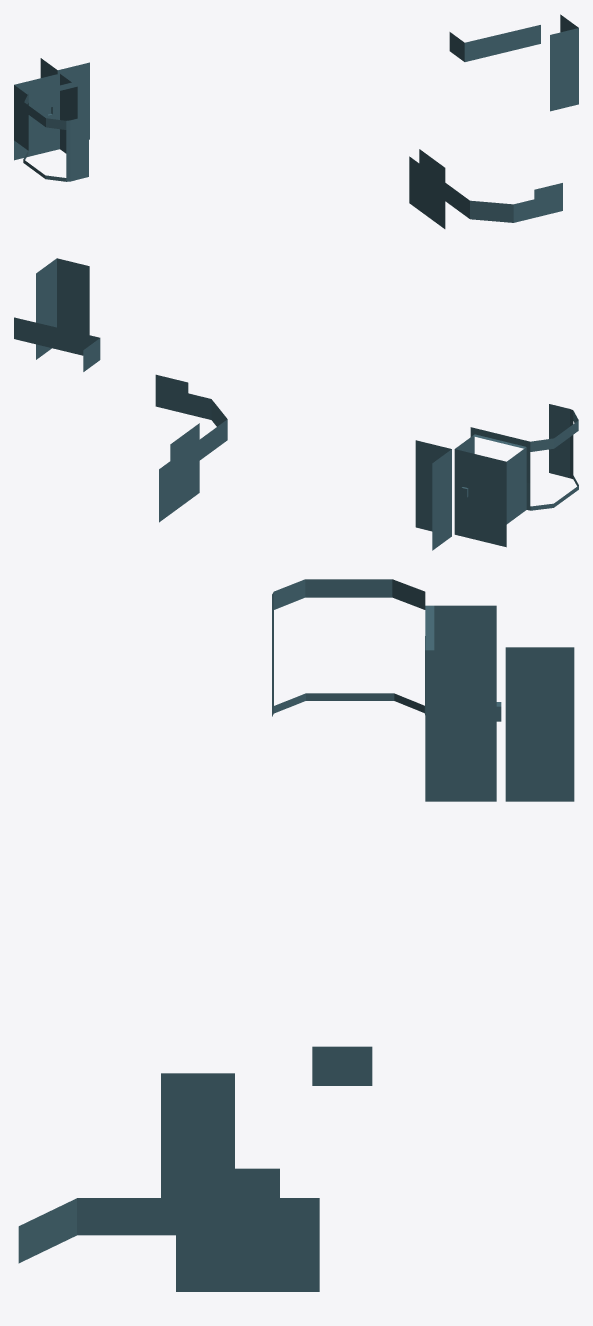
File: Subsurfed_Porch.017.obj
3 views of the same model, one above another, from view 1: azimuth 30°, elevation 25°; view 2: azimuth 150°, elevation 25°; view 3: azimuth 270°, elevation 25° (orthographic). The views are drawn at different scales.
Parts seen in each view (by area): view 1: Subsurfed_Porch.017_Cube.001; view 2: Subsurfed_Porch.017_Cube.001; view 3: Subsurfed_Porch.017_Cube.001.
Boxes of the visible parts, bbox=[...] form: Subsurfed_Porch.017_Cube.001: bbox=[14, 14, 578, 228]; Subsurfed_Porch.017_Cube.001: bbox=[14, 258, 578, 550]; Subsurfed_Porch.017_Cube.001: bbox=[18, 579, 574, 1291].
Size of the model in its own units: 17.97 by 6.12 by 8.7.
